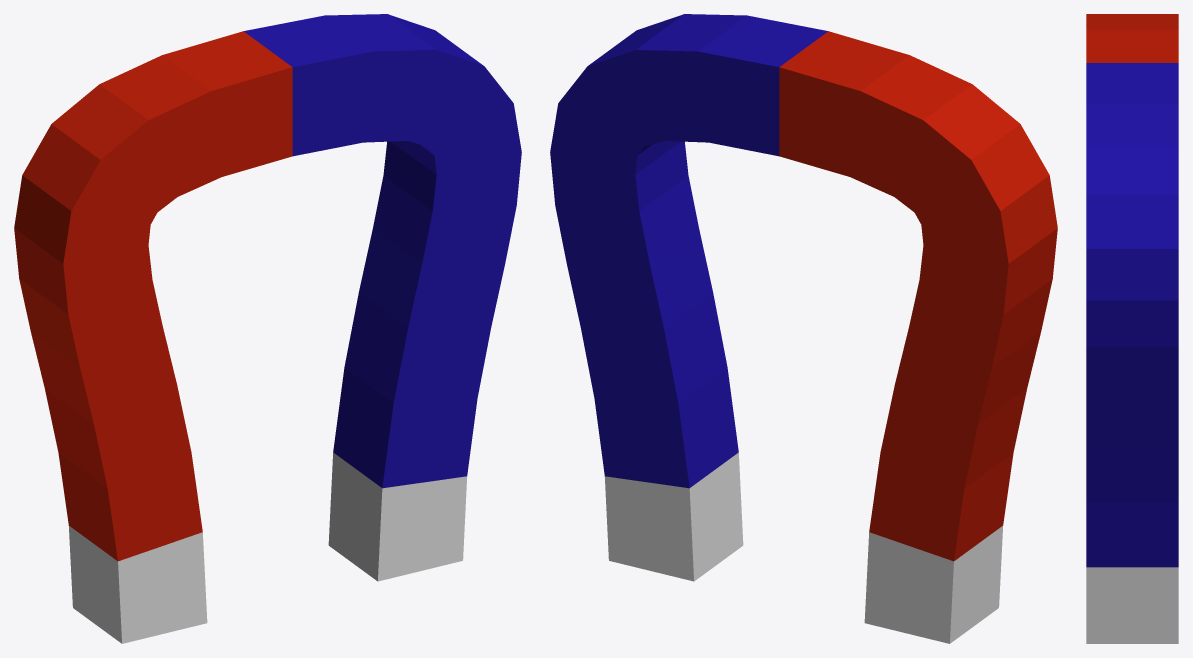
The model's file is magteto.glb.
3 renders of one model, left to right at view 1: azimuth 30°, elevation 25°; view 2: azimuth 150°, elevation 25°; view 3: azimuth 270°, elevation 25°, orthographic. The views are drawn at different scales.
Visible parts, largest first — view 1: Plane; view 2: Plane; view 3: Plane.
Boxes of the visible parts, x1,y1,x2,y2 form: Plane: (14, 14, 521, 643); Plane: (550, 14, 1057, 643); Plane: (1086, 14, 1178, 643).
Size of the model in its own units: 2.69 by 3 by 0.5.
